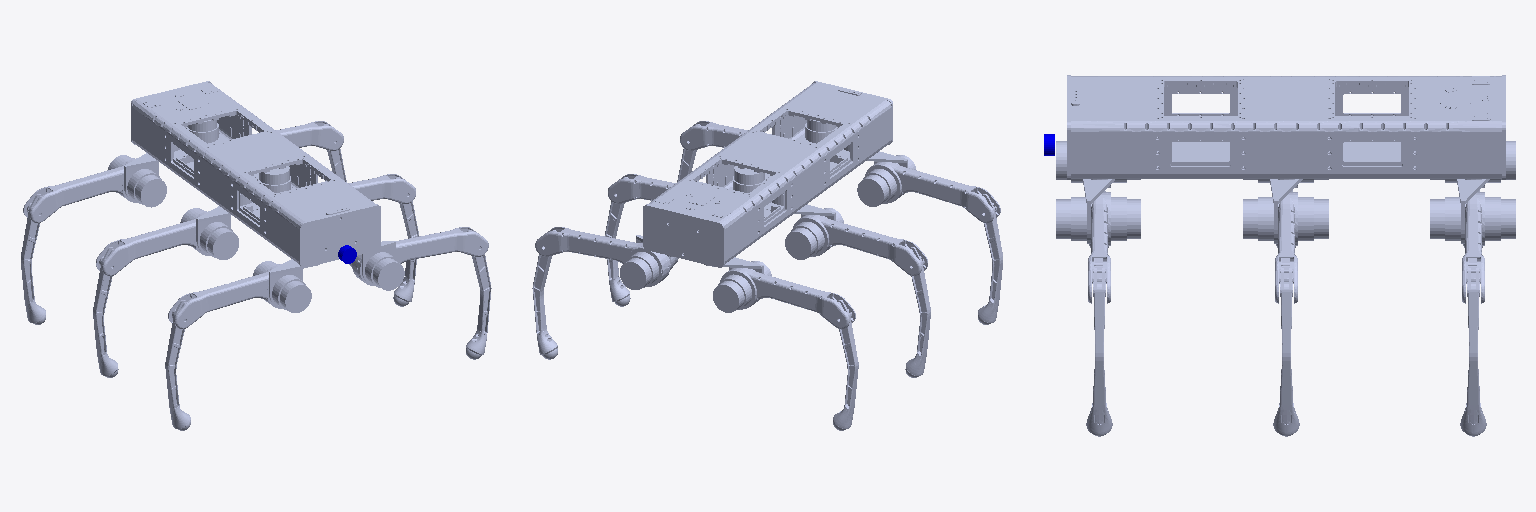
--- Render facts (derived) ---
Views: 3 orthographic renders of the robot side by side, from view 1: azimuth 30°, elevation 25°; view 2: azimuth 150°, elevation 25°; view 3: azimuth 270°, elevation 25°.
Robot: robot_liuzu — 20 links, 19 joints (18 revolute, 1 fixed); root link base_link; default pose: every joint at zero.
Visible links, largest first — view 1: base_link, rf_link2, rb_link2, rm_link2, lf_link2, rm_link1, rb_link1, rf_link1, lf_link1, rf_link3, rb_link3, rm_link3 (+5 smaller); view 2: base_link, rm_link2, rf_link2, rb_link2, lb_link2, rb_link3, rf_link3, rm_link3, lb_link3, lf_link2, lm_link2, lm_link3 (+1 smaller); view 3: base_link, lm_link2, lb_link2, lf_link2, lm_link3, lf_link3, lb_link3, lm_link1, lb_link1, lf_link1.
Boxes of the visible links, x1=… form: base_link: x1=131, y1=81, x2=380, y2=267; rf_link2: x1=168, y1=261, x2=281, y2=328; rb_link2: x1=23, y1=155, x2=137, y2=222; rm_link2: x1=96, y1=208, x2=209, y2=275; lf_link2: x1=349, y1=227, x2=488, y2=285; rm_link1: x1=196, y1=176, x2=252, y2=259; rb_link1: x1=124, y1=145, x2=179, y2=207; rf_link1: x1=269, y1=259, x2=319, y2=312; lf_link1: x1=357, y1=241, x2=404, y2=290; rf_link3: x1=165, y1=300, x2=190, y2=430; rb_link3: x1=21, y1=194, x2=45, y2=324; rm_link3: x1=93, y1=247, x2=118, y2=377; base_link: x1=643, y1=81, x2=892, y2=267; rm_link2: x1=785, y1=215, x2=927, y2=275; rf_link2: x1=857, y1=162, x2=1000, y2=222; rb_link2: x1=713, y1=268, x2=855, y2=328; lb_link2: x1=535, y1=227, x2=670, y2=289; rb_link3: x1=833, y1=300, x2=858, y2=430; rf_link3: x1=978, y1=194, x2=1002, y2=324; rm_link3: x1=905, y1=247, x2=930, y2=377; lb_link3: x1=532, y1=230, x2=557, y2=359; lf_link2: x1=680, y1=121, x2=747, y2=150; lm_link2: x1=608, y1=174, x2=675, y2=203; lm_link3: x1=605, y1=177, x2=630, y2=306; base_link: x1=1067, y1=75, x2=1505, y2=179; lm_link2: x1=1275, y1=192, x2=1328, y2=303; lb_link2: x1=1462, y1=192, x2=1515, y2=303; lf_link2: x1=1088, y1=192, x2=1140, y2=303; lm_link3: x1=1273, y1=268, x2=1299, y2=436; lf_link3: x1=1086, y1=268, x2=1112, y2=436; lb_link3: x1=1460, y1=268, x2=1486, y2=436; lm_link1: x1=1243, y1=179, x2=1302, y2=243; lb_link1: x1=1430, y1=179, x2=1489, y2=243; lf_link1: x1=1056, y1=179, x2=1114, y2=243.
Bounding box of the posed robot: 0.8771 × 0.8564 × 0.494 m (x, y, z).
Meshes: 19 distinct files referenced, 19 mesh visuals loaded (19 binary STL).

URDF robot description (robot_liuzu):
<?xml version="1.0" encoding="utf-8"?>
<!-- This URDF was automatically created by SolidWorks to URDF Exporter! Originally created by Stephen Brawner ([email redacted]) 
     Commit Version: 1.6.0-4-g7f85cfe  Build Version: 1.6.7995.38578
     For more information, please see http://wiki.ros.org/sw_urdf_exporter -->
<robot
  name="robot_liuzu">
  <link
    name="base_link">
    <inertial>
      <origin
        xyz="1.4611E-06 0.00013754 0.051189"
        rpy="0 0 0" />
      <mass
        value="17.206" />
      <inertia
        ixx="1.1941"
        ixy="0.003952"
        ixz="9.5899E-05"
        iyy="1.1576"
        iyz="0.078153"
        izz="0.21746" />
    </inertial>
    <visual>
      <origin
        xyz="0 0 0"
        rpy="0 0 0" />
      <geometry>
        <mesh
          filename="package://robot_liuzu/meshes/base_link.STL" />
      </geometry>
      <material
        name="">
        <color
          rgba="0.79216 0.81961 0.93333 1" />
      </material>
    </visual>
    <collision>
      <origin
        xyz="0 0 0"
        rpy="0 0 0" />
      <geometry>
        <mesh
          filename="package://robot_liuzu/meshes/base_link.STL" />
      </geometry>
    </collision>
  </link>

  <link
    name="rf_link1">
    <inertial>
      <origin
        xyz="0.022331 -0.038541 -0.054879"
        rpy="0 0 0" />
      <mass
        value="2.478" />
      <inertia
        ixx="0.021963"
        ixy="-0.0042012"
        ixz="-0.005651"
        iyy="0.017127"
        iyz="0.009585"
        izz="0.011444" />
    </inertial>
    <visual>
      <origin
        xyz="0 0 0"
        rpy="0 0 0" />
      <geometry>
        <mesh
          filename="package://robot_liuzu/meshes/rf_link1.STL" />
      </geometry>
      <material
        name="">
        <color
          rgba="0.79216 0.81961 0.93333 1" />
      </material>
    </visual>
    <collision>
      <origin
        xyz="0 0 0"
        rpy="0 0 0" />
      <geometry>
        <mesh
          filename="package://robot_liuzu/meshes/rf_link1.STL" />
      </geometry>
    </collision>
  </link>
  <joint
    name="body_rf"
    type="revolute">
    <origin
      xyz="-0.05 -0.34 -0.021"
      rpy="0 0 0" />
    <parent
      link="base_link" />
    <child
      link="rf_link1" />
    <axis
      xyz="0 0 1" />
    <limit
      lower="-0.471"
      upper="0.471"
      effort="200"
      velocity="1.570796" />
    <!-- <dynamics damping="0.2" friction="10.0"/> -->
  </joint>
  <link
    name="rf_link2">
    <inertial>
      <origin
        xyz="0.033159 0.0029006 -0.019475"
        rpy="0 0 0" />
      <mass
        value="1.658" />
      <inertia
        ixx="0.0025821"
        ixy="0.0007783"
        ixz="-0.0027886"
        iyy="0.014124"
        iyz="0.00024407"
        izz="0.013116" />
    </inertial>
    <visual>
      <origin
        xyz="0 0 0"
        rpy="0 0 0" />
      <geometry>
        <mesh
          filename="package://robot_liuzu/meshes/rf_link2.STL" />
      </geometry>
      <material
        name="">
        <color
          rgba="0.79216 0.81961 0.93333 1" />
      </material>
    </visual>
    <collision>
      <origin
        xyz="0 0 0"
        rpy="0 0 0" />
      <geometry>
        <mesh
          filename="package://robot_liuzu/meshes/rf_link2.STL" />
      </geometry>
    </collision>
  </link>
  <joint
    name="thigh_rf"
    type="revolute">
    <origin
      xyz="-0.076 0 -0.05"
      rpy="0 0.3 0" />
    <parent
      link="rf_link1" />
    <child
      link="rf_link2" />
    <axis
      xyz="0 -1 0" />
    <limit
      lower="-0.4"
      upper="0.2"
      effort="200"
      velocity="1.570796" />
    <!-- <dynamics damping="0.2" friction="10.0"/> -->
  </joint>
  <link
    name="rf_link3">
    <inertial>
      <origin
        xyz="-0.15658 0 -0.011782"
        rpy="0 0 0" />
      <mass
        value="0.331" />
      <inertia
        ixx="0.00011902"
        ixy="5E-09"
        ixz="0.00064146"
        iyy="0.011147"
        iyz="1E-09"
        izz="0.011069" />
    </inertial>
    <visual>
      <origin
        xyz="0 0 0"
        rpy="0 0 0" />
      <geometry>
        <mesh
          filename="package://robot_liuzu/meshes/rf_link3.STL" />
      </geometry>
      <material
        name="">
        <color
          rgba="0.79216 0.81961 0.93333 1" />
      </material>
    </visual>
    <collision>
      <origin
        xyz="0 0 0"
        rpy="0 0 0" />
      <geometry>
        <mesh
          filename="package://robot_liuzu/meshes/rf_link3.STL" />
      </geometry>
    </collision>
  </link>
  <joint
    name="shank_rf"
    type="revolute">
    <origin
      xyz="-0.258415470716125 0 -0.0940555394145592"
      rpy="0 -0.42 0" />
    <parent
      link="rf_link2" />
    <child
      link="rf_link3" />
    <axis
      xyz="0 -1 0" />
    <limit
      lower="-0.1"
      upper="0.3"
      effort="200"
      velocity="1.570796" />
    <!-- <dynamics damping="0.2" friction="10.0"/> -->
  </joint>

  <link
    name="lf_link1">
    <inertial>
      <origin
        xyz="-0.038541 0.022331 -0.054879"
        rpy="0 0 0" />
      <mass
        value="2.478" />
      <inertia
        ixx="0.017127"
        ixy="-0.004201"
        ixz="0.009585"
        iyy="0.021963"
        iyz="-0.0056509"
        izz="0.011444" />
    </inertial>
    <visual>
      <origin
        xyz="0 0 0"
        rpy="0 0 0" />
      <geometry>
        <mesh
          filename="package://robot_liuzu/meshes/lf_link1.STL" />
      </geometry>
      <material
        name="">
        <color
          rgba="0.79216 0.81961 0.93333 1" />
      </material>
    </visual>
    <collision>
      <origin
        xyz="0 0 0"
        rpy="0 0 0" />
      <geometry>
        <mesh
          filename="package://robot_liuzu/meshes/lf_link1.STL" />
      </geometry>
    </collision>
  </link>
  <joint
    name="body_lf"
    type="revolute">
    <origin
      xyz="0.05 -0.34 -0.021"
      rpy="0 0 0" />
    <parent
      link="base_link" />
    <child
      link="lf_link1" />
    <axis
      xyz="0 0 1" />
    <limit
      lower="-0.471"
      upper="0.471"
      effort="200"
      velocity="1.570796" />
    <!-- <dynamics damping="0.2" friction="10.0"/> -->
  </joint>
  <link
    name="lf_link2">
    <inertial>
      <origin
        xyz="0.033669 -0.033086 -0.002815"
        rpy="0 0 0" />
      <mass
        value="1.658" />
      <inertia
        ixx="0.0034925"
        ixy="-1.7485E-05"
        ixz="-0.000732"
        iyy="0.013323"
        iyz="2.067E-06"
        izz="0.015288" />
    </inertial>
    <visual>
      <origin
        xyz="0 0 0"
        rpy="0 0 0" />
      <geometry>
        <mesh
          filename="package://robot_liuzu/meshes/lf_link2.STL" />
      </geometry>
      <material
        name="">
        <color
          rgba="0.79216 0.81961 0.93333 1" />
      </material>
    </visual>
    <collision>
      <origin
        xyz="0 0 0"
        rpy="0 0 0" />
      <geometry>
        <mesh
          filename="package://robot_liuzu/meshes/lf_link2.STL" />
      </geometry>
    </collision>
  </link>
  <joint
    name="thigh_lf"
    type="revolute">
    <origin
      xyz="0.076 0 -0.05"
      rpy="0 -0.3 0" />
    <parent
      link="lf_link1" />
    <child
      link="lf_link2" />
    <axis
      xyz="0 -1 0" />
    <limit
      lower="-0.2"
      upper="0.4"
      effort="200"
      velocity="1.570796" />
    <!-- <dynamics damping="0.2" friction="10.0"/> -->
  </joint>
  <link
    name="lf_link3">
    <inertial>
      <origin
        xyz="-0.15658 0 -0.011782"
        rpy="0 0 0" />
      <mass
        value="0.331" />
      <inertia
        ixx="0.00011902"
        ixy="5E-09"
        ixz="0.00064146"
        iyy="0.011147"
        iyz="1E-09"
        izz="0.011069" />
    </inertial>
    <visual>
      <origin
        xyz="0 0 0"
        rpy="0 0 0" />
      <geometry>
        <mesh
          filename="package://robot_liuzu/meshes/lf_link3.STL" />
      </geometry>
      <material
        name="">
        <color
          rgba="0.79216 0.81961 0.93333 1" />
      </material>
    </visual>
    <collision>
      <origin
        xyz="0 0 0"
        rpy="0 0 0" />
      <geometry>
        <mesh
          filename="package://robot_liuzu/meshes/lf_link3.STL" />
      </geometry>
    </collision>
  </link>
  <joint
    name="shank_lf"
    type="revolute">
    <origin
      xyz="0.258415470716125 0 -0.094055539414559"
      rpy="0 0.42 0" />
    <parent
      link="lf_link2" />
    <child
      link="lf_link3" />
    <axis
      xyz="0 -1 0" />
    <limit
      lower="-0.3"
      upper="0.1"
      effort="200"
      velocity="1.570796" />
    <!-- <dynamics damping="0.2" friction="10.0"/> -->
  </joint>

  <link
    name="rm_link1">
    <inertial>
      <origin
        xyz="0.022331 -0.038541 -0.054879"
        rpy="0 0 0" />
      <mass
        value="2.478" />
      <inertia
        ixx="0.021963"
        ixy="-0.0042012"
        ixz="-0.005651"
        iyy="0.017127"
        iyz="0.009585"
        izz="0.011444" />
    </inertial>
    <visual>
      <origin
        xyz="0 0 0"
        rpy="0 0 0" />
      <geometry>
        <mesh
          filename="package://robot_liuzu/meshes/rm_link1.STL" />
      </geometry>
      <material
        name="">
        <color
          rgba="0.79216 0.81961 0.93333 1" />
      </material>
    </visual>
    <collision>
      <origin
        xyz="0 0 0"
        rpy="0 0 0" />
      <geometry>
        <mesh
          filename="package://robot_liuzu/meshes/rm_link1.STL" />
      </geometry>
    </collision>
  </link>
  <joint
    name="body_rm"
    type="revolute">
    <origin
      xyz="-0.05 0 -0.021"
      rpy="0 0 0" />
    <parent
      link="base_link" />
    <child
      link="rm_link1" />
    <axis
      xyz="0 0 1" />
    <limit
      lower="-0.471"
      upper="0.471"
      effort="200"
      velocity="1.570796" />
    <!-- <dynamics damping="0.2" friction="10.0"/> -->
  </joint>
  <link
    name="rm_link2">
    <inertial>
      <origin
        xyz="0.033159 0.0029006 -0.019475"
        rpy="0 0 0" />
      <mass
        value="1.658" />
      <inertia
        ixx="0.0025821"
        ixy="0.0007783"
        ixz="-0.0027886"
        iyy="0.014124"
        iyz="0.00024407"
        izz="0.013116" />
    </inertial>
    <visual>
      <origin
        xyz="0 0 0"
        rpy="0 0 0" />
      <geometry>
        <mesh
          filename="package://robot_liuzu/meshes/rm_link2.STL" />
      </geometry>
      <material
        name="">
        <color
          rgba="0.79216 0.81961 0.93333 1" />
      </material>
    </visual>
    <collision>
      <origin
        xyz="0 0 0"
        rpy="0 0 0" />
      <geometry>
        <mesh
          filename="package://robot_liuzu/meshes/rm_link2.STL" />
      </geometry>
    </collision>
  </link>
  <joint
    name="thigh_rm"
    type="revolute">
    <origin
      xyz="-0.076 0 -0.05"
      rpy="0 0.3 0" />
    <parent
      link="rm_link1" />
    <child
      link="rm_link2" />
    <axis
      xyz="0 -1 0" />
    <limit
      lower="-0.4"
      upper="0.2"
      effort="200"
      velocity="1.570796" />
    <!-- <dynamics damping="0.2" friction="10.0"/> -->
  </joint>
  <link
    name="rm_link3">
    <inertial>
      <origin
        xyz="-0.15658 0 -0.011782"
        rpy="0 0 0" />
      <mass
        value="0.331" />
      <inertia
        ixx="0.00011902"
        ixy="5E-09"
        ixz="0.00064146"
        iyy="0.011147"
        iyz="1E-09"
        izz="0.011069" />
    </inertial>
    <visual>
      <origin
        xyz="0 0 0"
        rpy="0 0 0" />
      <geometry>
        <mesh
          filename="package://robot_liuzu/meshes/rm_link3.STL" />
      </geometry>
      <material
        name="">
        <color
          rgba="0.79216 0.81961 0.93333 1" />
      </material>
    </visual>
    <collision>
      <origin
        xyz="0 0 0"
        rpy="0 0 0" />
      <geometry>
        <mesh
          filename="package://robot_liuzu/meshes/rm_link3.STL" />
      </geometry>
    </collision>
  </link>
  <joint
    name="shank_rm"
    type="revolute">
    <origin
      xyz="-0.258415470716125 0 -0.094055539414557"
      rpy="0 -0.42 0" />
    <parent
      link="rm_link2" />
    <child
      link="rm_link3" />
    <axis
      xyz="0 -1 0" />
    <limit
      lower="-0.1"
      upper="0.3"
      effort="200"
      velocity="1.570796" />
    <!-- <dynamics damping="0.2" friction="10.0"/> -->
  </joint>

  <link
    name="lm_link1">
    <inertial>
      <origin
        xyz="-0.038541 0.022331 -0.054879"
        rpy="0 0 0" />
      <mass
        value="2.478" />
      <inertia
        ixx="0.017127"
        ixy="-0.004201"
        ixz="0.009585"
        iyy="0.021963"
        iyz="-0.0056509"
        izz="0.011444" />
    </inertial>
    <visual>
      <origin
        xyz="0 0 0"
        rpy="0 0 0" />
      <geometry>
        <mesh
          filename="package://robot_liuzu/meshes/lm_link1.STL" />
      </geometry>
      <material
        name="">
        <color
          rgba="0.79216 0.81961 0.93333 1" />
      </material>
    </visual>
    <collision>
      <origin
        xyz="0 0 0"
        rpy="0 0 0" />
      <geometry>
        <mesh
          filename="package://robot_liuzu/meshes/lm_link1.STL" />
      </geometry>
    </collision>
  </link>
  <joint
    name="body_lm"
    type="revolute">
    <origin
      xyz="0.0499999999999999 0 -0.021"
      rpy="0 0 0" />
    <parent
      link="base_link" />
    <child
      link="lm_link1" />
    <axis
      xyz="0 0 1" />
    <limit
      lower="-0.471"
      upper="0.471"
      effort="200"
      velocity="1.570796" />
    <!-- <dynamics damping="0.2" friction="10.0"/> -->
  </joint>
  <link
    name="lm_link2">
    <inertial>
      <origin
        xyz="0.033669 -0.033086 -0.002815"
        rpy="0 0 0" />
      <mass
        value="1.658" />
      <inertia
        ixx="0.0034925"
        ixy="-1.7485E-05"
        ixz="-0.000732"
        iyy="0.013323"
        iyz="2.067E-06"
        izz="0.015288" />
    </inertial>
    <visual>
      <origin
        xyz="0 0 0"
        rpy="0 0 0" />
      <geometry>
        <mesh
          filename="package://robot_liuzu/meshes/lm_link2.STL" />
      </geometry>
      <material
        name="">
        <color
          rgba="0.79216 0.81961 0.93333 1" />
      </material>
    </visual>
    <collision>
      <origin
        xyz="0 0 0"
        rpy="0 0 0" />
      <geometry>
        <mesh
          filename="package://robot_liuzu/meshes/lm_link2.STL" />
      </geometry>
    </collision>
  </link>
  <joint
    name="thigh_lm"
    type="revolute">
    <origin
      xyz="0.076 0 -0.05"
      rpy="0 -0.3 0" />
    <parent
      link="lm_link1" />
    <child
      link="lm_link2" />
    <axis
      xyz="0 -1 0" />
    <limit
      lower="-0.2"
      upper="0.4"
      effort="200"
      velocity="1.570796" />
    <!-- <dynamics damping="0.2" friction="10.0"/> -->
  </joint>
  <link
    name="lm_link3">
    <inertial>
      <origin
        xyz="-0.15658 0 -0.011782"
        rpy="0 0 0" />
      <mass
        value="0.331" />
      <inertia
        ixx="0.00011902"
        ixy="5E-09"
        ixz="0.00064146"
        iyy="0.011147"
        iyz="1E-09"
        izz="0.011069" />
    </inertial>
    <visual>
      <origin
        xyz="0 0 0"
        rpy="0 0 0" />
      <geometry>
        <mesh
          filename="package://robot_liuzu/meshes/lm_link3.STL" />
      </geometry>
      <material
        name="">
        <color
          rgba="0.79216 0.81961 0.93333 1" />
      </material>
    </visual>
    <collision>
      <origin
        xyz="0 0 0"
        rpy="0 0 0" />
      <geometry>
        <mesh
          filename="package://robot_liuzu/meshes/lm_link3.STL" />
      </geometry>
    </collision>
  </link>
  <joint
    name="shank_lm"
    type="revolute">
    <origin
      xyz="0.258415470716125 0 -0.094055539414559"
      rpy="0 0.42 0" />
    <parent
      link="lm_link2" />
    <child
      link="lm_link3" />
    <axis
      xyz="0 -1 0" />
    <limit
      lower="-0.3"
      upper="0.1"
      effort="200"
      velocity="1.570796" />
    <!-- <dynamics damping="0.2" friction="10.0"/> -->
  </joint>

  <link
    name="rb_link1">
    <inertial>
      <origin
        xyz="0.022331 -0.038541 -0.054879"
        rpy="0 0 0" />
      <mass
        value="2.478" />
      <inertia
        ixx="0.021963"
        ixy="-0.0042012"
        ixz="-0.005651"
        iyy="0.017127"
        iyz="0.009585"
        izz="0.011444" />
    </inertial>
    <visual>
      <origin
        xyz="0 0 0"
        rpy="0 0 0" />
      <geometry>
        <mesh
          filename="package://robot_liuzu/meshes/rb_link1.STL" />
      </geometry>
      <material
        name="">
        <color
          rgba="0.79216 0.81961 0.93333 1" />
      </material>
    </visual>
    <collision>
      <origin
        xyz="0 0 0"
        rpy="0 0 0" />
      <geometry>
        <mesh
          filename="package://robot_liuzu/meshes/rb_link1.STL" />
      </geometry>
    </collision>
  </link>
  <joint
    name="body_rb"
    type="revolute">
    <origin
      xyz="-0.05 0.34 -0.021"
      rpy="0 0 0" />
    <parent
      link="base_link" />
    <child
      link="rb_link1" />
    <axis
      xyz="0 0 1" />
    <limit
      lower="-0.471"
      upper="0.471"
      effort="200"
      velocity="1.570796" />
    <!-- <dynamics damping="0.2" friction="10.0"/> -->
  </joint>
  <link
    name="rb_link2">
    <inertial>
      <origin
        xyz="0.033159 0.0029006 -0.019475"
        rpy="0 0 0" />
      <mass
        value="1.658" />
      <inertia
        ixx="0.0025821"
        ixy="0.0007783"
        ixz="-0.0027886"
        iyy="0.014124"
        iyz="0.00024407"
        izz="0.013116" />
    </inertial>
    <visual>
      <origin
        xyz="0 0 0"
        rpy="0 0 0" />
      <geometry>
        <mesh
          filename="package://robot_liuzu/meshes/rb_link2.STL" />
      </geometry>
      <material
        name="">
        <color
          rgba="0.79216 0.81961 0.93333 1" />
      </material>
    </visual>
    <collision>
      <origin
        xyz="0 0 0"
        rpy="0 0 0" />
      <geometry>
        <mesh
          filename="package://robot_liuzu/meshes/rb_link2.STL" />
      </geometry>
    </collision>
  </link>
  <joint
    name="thigh_rb"
    type="revolute">
    <origin
      xyz="-0.076 0 -0.05"
      rpy="0 0.3 0" />
    <parent
      link="rb_link1" />
    <child
      link="rb_link2" />
    <axis
      xyz="0 -1 0" />
    <limit
      lower="-0.4"
      upper="0.2"
      effort="200"
      velocity="1.570796" />
    <!-- <dynamics damping="0.2" friction="10.0"/> -->
  </joint>
  <link
    name="rb_link3">
    <inertial>
      <origin
        xyz="-0.15658 0 -0.011782"
        rpy="0 0 0" />
      <mass
        value="0.331" />
      <inertia
        ixx="0.00011902"
        ixy="5E-09"
        ixz="0.00064146"
        iyy="0.011147"
        iyz="1E-09"
        izz="0.011069" />
    </inertial>
    <visual>
      <origin
        xyz="0 0 0"
        rpy="0 0 0" />
      <geometry>
        <mesh
          filename="package://robot_liuzu/meshes/rb_link3.STL" />
      </geometry>
      <material
        name="">
        <color
          rgba="0.79216 0.81961 0.93333 1" />
      </material>
    </visual>
    <collision>
      <origin
        xyz="0 0 0"
        rpy="0 0 0" />
      <geometry>
        <mesh
          filename="package://robot_liuzu/meshes/rb_link3.STL" />
      </geometry>
    </collision>
  </link>
  <joint
    name="shank_rb"
    type="revolute">
    <origin
      xyz="-0.258415470716125 0 -0.0940555394145591"
      rpy="0 -0.42 0" />
    <parent
      link="rb_link2" />
    <child
      link="rb_link3" />
    <axis
      xyz="0 -1 0" />
    <limit
      lower="-0.1"
      upper="0.3"
      effort="200"
      velocity="1.570796" />
    <!-- <dynamics damping="0.2" friction="10.0"/> -->
  </joint>

  <link
    name="lb_link1">
    <inertial>
      <origin
        xyz="-0.038541 0.022331 -0.054879"
        rpy="0 0 0" />
      <mass
        value="2.478" />
      <inertia
        ixx="0.017127"
        ixy="-0.004201"
        ixz="0.009585"
        iyy="0.021963"
        iyz="-0.0056509"
        izz="0.011444" />
    </inertial>
    <visual>
      <origin
        xyz="0 0 0"
        rpy="0 0 0" />
      <geometry>
        <mesh
          filename="package://robot_liuzu/meshes/lb_link1.STL" />
      </geometry>
      <material
        name="">
        <color
          rgba="0.79216 0.81961 0.93333 1" />
      </material>
    </visual>
    <collision>
      <origin
        xyz="0 0 0"
        rpy="0 0 0" />
      <geometry>
        <mesh
          filename="package://robot_liuzu/meshes/lb_link1.STL" />
      </geometry>
    </collision>
  </link>
  <joint
    name="body_lb"
    type="revolute">
    <origin
      xyz="0.0499999999999999 0.34 -0.021"
      rpy="0 0 0" />
    <parent
      link="base_link" />
    <child
      link="lb_link1" />
    <axis
      xyz="0 0 1" />
    <limit
      lower="-0.471"
      upper="0.471"
      effort="200"
      velocity="1.570796" />
    <!-- <dynamics damping="0.2" friction="10.0"/> -->
  </joint>
  <link
    name="lb_link2">
    <inertial>
      <origin
        xyz="0.033669 -0.033086 -0.002815"
        rpy="0 0 0" />
      <mass
        value="1.658" />
      <inertia
        ixx="0.0034925"
        ixy="-1.7485E-05"
        ixz="-0.000732"
        iyy="0.013323"
        iyz="2.067E-06"
        izz="0.015288" />
    </inertial>
    <visual>
      <origin
        xyz="0 0 0"
        rpy="0 0 0" />
      <geometry>
        <mesh
          filename="package://robot_liuzu/meshes/lb_link2.STL" />
      </geometry>
      <material
        name="">
        <color
          rgba="0.79216 0.81961 0.93333 1" />
      </material>
    </visual>
    <collision>
      <origin
        xyz="0 0 0"
        rpy="0 0 0" />
      <geometry>
        <mesh
          filename="package://robot_liuzu/meshes/lb_link2.STL" />
      </geometry>
    </collision>
  </link>
  <joint
    name="thigh_lb"
    type="revolute">
    <origin
      xyz="0.075728 0.0068868 -0.05"
      rpy="0 -0.3 0" />
    <parent
      link="lb_link1" />
    <child
      link="lb_link2" />
    <axis
      xyz="0 -1 0" />
    <limit
      lower="-0.2"
      upper="0.4"
      effort="200"
      velocity="1.570796" />
    <!-- <dynamics damping="0.2" friction="10.0"/> -->
  </joint>
  <link
    name="lb_link3">
    <inertial>
      <origin
        xyz="-0.15658 0 -0.011782"
        rpy="0 0 0" />
      <mass
        value="0.331" />
      <inertia
        ixx="0.00011902"
        ixy="5E-09"
        ixz="0.00064146"
        iyy="0.011147"
        iyz="1E-09"
        izz="0.011069" />
    </inertial>
    <visual>
      <origin
        xyz="0 0 0"
        rpy="0 0 0" />
      <geometry>
        <mesh
          filename="package://robot_liuzu/meshes/lb_link_3.STL" />
      </geometry>
      <material
        name="">
        <color
          rgba="0.79216 0.81961 0.93333 1" />
      </material>
    </visual>
    <collision>
      <origin
        xyz="0 0 0"
        rpy="0 0 0" />
      <geometry>
        <mesh
          filename="package://robot_liuzu/meshes/lb_link_3.STL" />
      </geometry>
    </collision>
  </link>
  <joint
    name="shank_lb"
    type="revolute">
    <origin
      xyz="0.25869 -0.0068868 -0.094056"
      rpy="0 0.42 0" />
    <parent
      link="lb_link2" />
    <child
      link="lb_link3" />
    <axis
      xyz="0 -1 0" />
    <limit
      lower="-0.3"
      upper="0.1"
      effort="200"
      velocity="1.570796" />
    <!-- <dynamics damping="0.2" friction="10.0"/> -->
  </joint>

  <!-- <link name="world"/>

  <joint name="fixed" type="fixed">
    <parent link="world"/>
    <child link="base_link"/>
    <origin xyz="0 0 1" rpy="0 0 0" />
    <axis xyz="1 0 0" />
  </joint> -->
  
  <joint name="ray_joint" type="fixed">
    <origin xyz="0 -0.43 0.02" rpy="1.5708 0 0"/>
    <parent link="base_link"/>
    <child link="lidar"/>  
  </joint>

  <link name="lidar">
    <inertial>
      <origin xyz="0 0 0" rpy="0 0 0" />
      <mass value="1E-09" />
      <inertia ixx="1E-09" ixy="1E-09" ixz="1E-09" iyy="1E-09" iyz="1E-09" izz="1E-09" />
    </inertial>
    <visual>
      <origin xyz="0 0 0" rpy="0 0 0" />
      <geometry>
        <cylinder radius="0.02" length="0.02"/>
      </geometry>
      <material name="Cyan">
        <color rgba="0 0 1 1" />
      </material>
    </visual>
    <collision>
      <origin xyz="0 0 0" rpy="0 0 0" />
      <geometry>
        <cylinder radius="0.02" length="0.02"/>
      </geometry>
    </collision>
  </link>



  <!-- <joint name="lf_tip_joint" type="fixed">
    <origin xyz="0.025 0 -0.29" rpy="0 0 0"/>
    <parent link="lf_link3"/>
    <child link="lf_foot_tip"/>  
  </joint>

  <link name="lf_foot_tip">
    <inertial>
      <origin xyz="0 0 0" rpy="0 0 0" />
      <mass value="1E-09" />
      <inertia ixx="1E-09" ixy="1E-09" ixz="1E-09" iyy="1E-09" iyz="1E-09" izz="1E-09" />
    </inertial>
    <visual>
      <origin xyz="0 0 0" rpy="0 0 0" />
      <geometry>
        <sphere radius="0.01"/>
      </geometry>
      <material name="Cyan">
        <color rgba="0 0 1 1" />
      </material>
    </visual>
  </link>

  <joint name="lm_tip_joint" type="fixed">
    <origin xyz="0.025 0 -0.29" rpy="0 0 0"/>
    <parent link="lm_link3"/>
    <child link="lm_foot_tip"/>  
  </joint>

  <link name="lm_foot_tip">
    <inertial>
      <origin xyz="0 0 0" rpy="0 0 0" />
      <mass value="1E-09" />
      <inertia ixx="1E-09" ixy="1E-09" ixz="1E-09" iyy="1E-09" iyz="1E-09" izz="1E-09" />
    </inertial>
    <visual>
      <origin xyz="0 0 0" rpy="0 0 0" />
      <geometry>
        <sphere radius="0.01"/>
      </geometry>
      <material name="Cyan">
        <color rgba="0 0 1 1" />
      </material>
    </visual>
  </link>

  <joint name="lb_tip_joint" type="fixed">
    <origin xyz="0.025 0 -0.29" rpy="0 0 0"/>
    <parent link="lb_link_3"/>
    <child link="lb_foot_tip"/>  
  </joint>

  <link name="lb_foot_tip">
    <inertial>
      <origin xyz="0 0 0" rpy="0 0 0" />
      <mass value="1E-09" />
      <inertia ixx="1E-09" ixy="1E-09" ixz="1E-09" iyy="1E-09" iyz="1E-09" izz="1E-09" />
    </inertial>
    <visual>
      <origin xyz="0 0 0" rpy="0 0 0" />
      <geometry>
        <sphere radius="0.01"/>
      </geometry>
      <material name="Cyan">
        <color rgba="0 0 1 1" />
      </material>
    </visual>
  </link>

  <joint name="rf_tip_joint" type="fixed">
    <origin xyz="-0.025 0 -0.29" rpy="0 0 0"/>
    <parent link="rf_link3"/>
    <child link="rf_foot_tip"/>  
  </joint>

  <link name="rf_foot_tip">
    <inertial>
      <origin xyz="0 0 0" rpy="0 0 0" />
      <mass value="1E-09" />
      <inertia ixx="1E-09" ixy="1E-09" ixz="1E-09" iyy="1E-09" iyz="1E-09" izz="1E-09" />
    </inertial>
    <visual>
      <origin xyz="0 0 0" rpy="0 0 0" />
      <geometry>
        <sphere radius="0.01"/>
      </geometry>
      <material name="Cyan">
        <color rgba="0 0 1 1" />
      </material>
    </visual>
  </link>

    <joint name="rm_tip_joint" type="fixed">
    <origin xyz="-0.025 0 -0.29" rpy="0 0 0"/>
    <parent link="rm_link3"/>
    <child link="rm_foot_tip"/>  
  </joint>

  <link name="rm_foot_tip">
    <inertial>
      <origin xyz="0 0 0" rpy="0 0 0" />
      <mass value="1E-09" />
      <inertia ixx="1E-09" ixy="1E-09" ixz="1E-09" iyy="1E-09" iyz="1E-09" izz="1E-09" />
    </inertial>
    <visual>
      <origin xyz="0 0 0" rpy="0 0 0" />
      <geometry>
        <sphere radius="0.01"/>
      </geometry>
      <material name="Cyan">
        <color rgba="0 0 1 1" />
      </material>
    </visual>
  </link>

    <joint name="rb_tip_joint" type="fixed">
    <origin xyz="-0.025 0 -0.29" rpy="0 0 0"/>
    <parent link="rb_link3"/>
    <child link="rb_foot_tip"/>  
  </joint>

  <link name="rb_foot_tip">
    <inertial>
      <origin xyz="0 0 0" rpy="0 0 0" />
      <mass value="1E-09" />
      <inertia ixx="1E-09" ixy="1E-09" ixz="1E-09" iyy="1E-09" iyz="1E-09" izz="1E-09" />
    </inertial>
    <visual>
      <origin xyz="0 0 0" rpy="0 0 0" />
      <geometry>
        <sphere radius="0.01"/>
      </geometry>
      <material name="Cyan">
        <color rgba="0 0 1 1" />
      </material>
    </visual>
  </link> -->
</robot>
